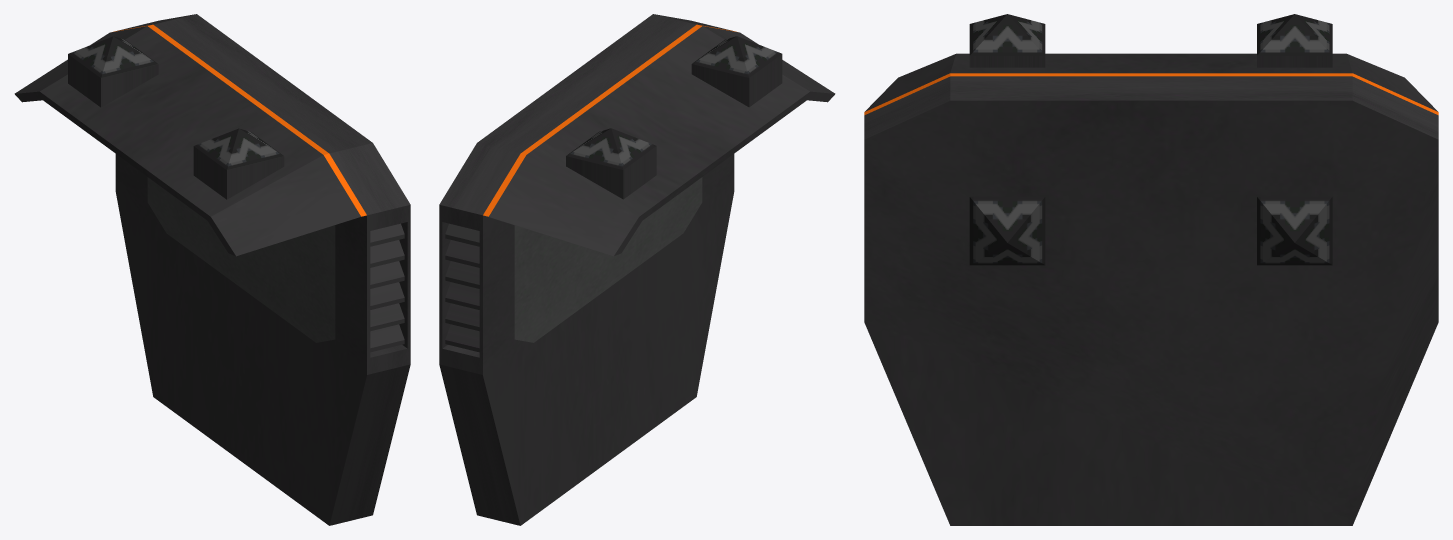
Rendered from IEC Nomad Wheel Base.obj.
The picture shows the model from 3 angles, left to right: view 1: azimuth 30°, elevation 25°; view 2: azimuth 150°, elevation 25°; view 3: azimuth 270°, elevation 25°; orthographic projection. The views are drawn at different scales.
Visible parts, largest first — view 1: IEC_Nomad_Wheel_Base_Cube; view 2: IEC_Nomad_Wheel_Base_Cube; view 3: IEC_Nomad_Wheel_Base_Cube.
Boxes of the visible parts, bbox=[...] form: IEC_Nomad_Wheel_Base_Cube: bbox=[14, 14, 410, 525]; IEC_Nomad_Wheel_Base_Cube: bbox=[439, 14, 835, 525]; IEC_Nomad_Wheel_Base_Cube: bbox=[864, 14, 1438, 525].
Bounding box in the file's own units: 0.8328 × 1.73 × 2.
